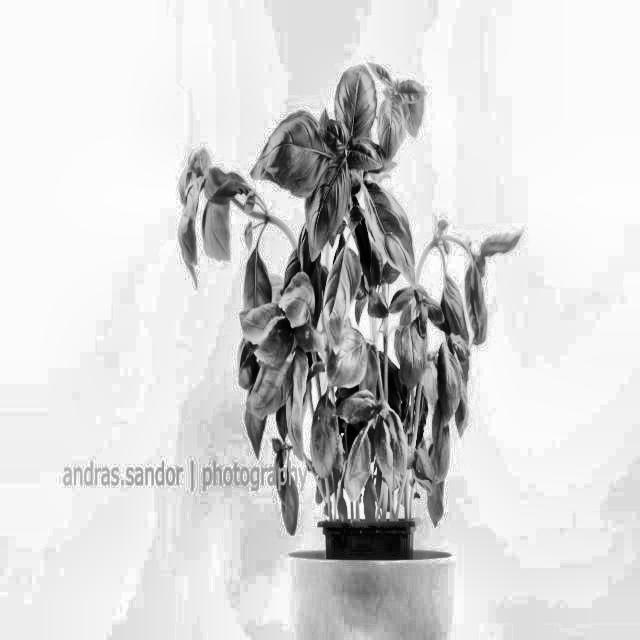plants: (169, 65, 526, 568), (431, 196, 524, 530), (156, 113, 263, 297)
